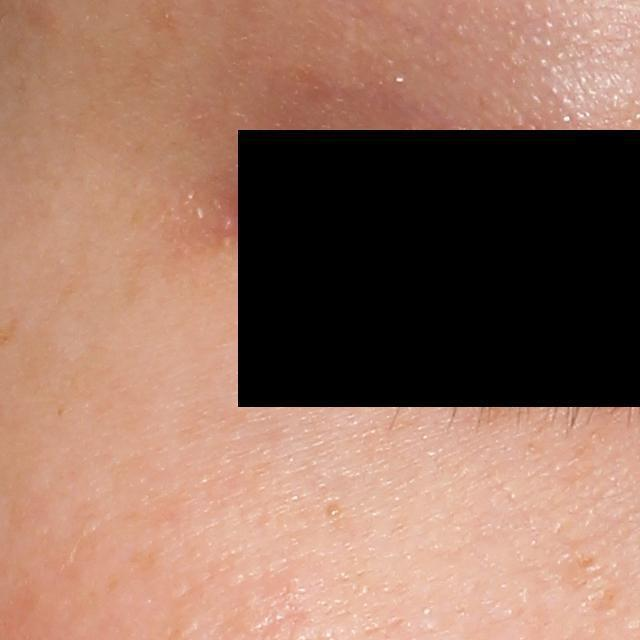melasma: (467, 396, 527, 431), (559, 552, 604, 593)
